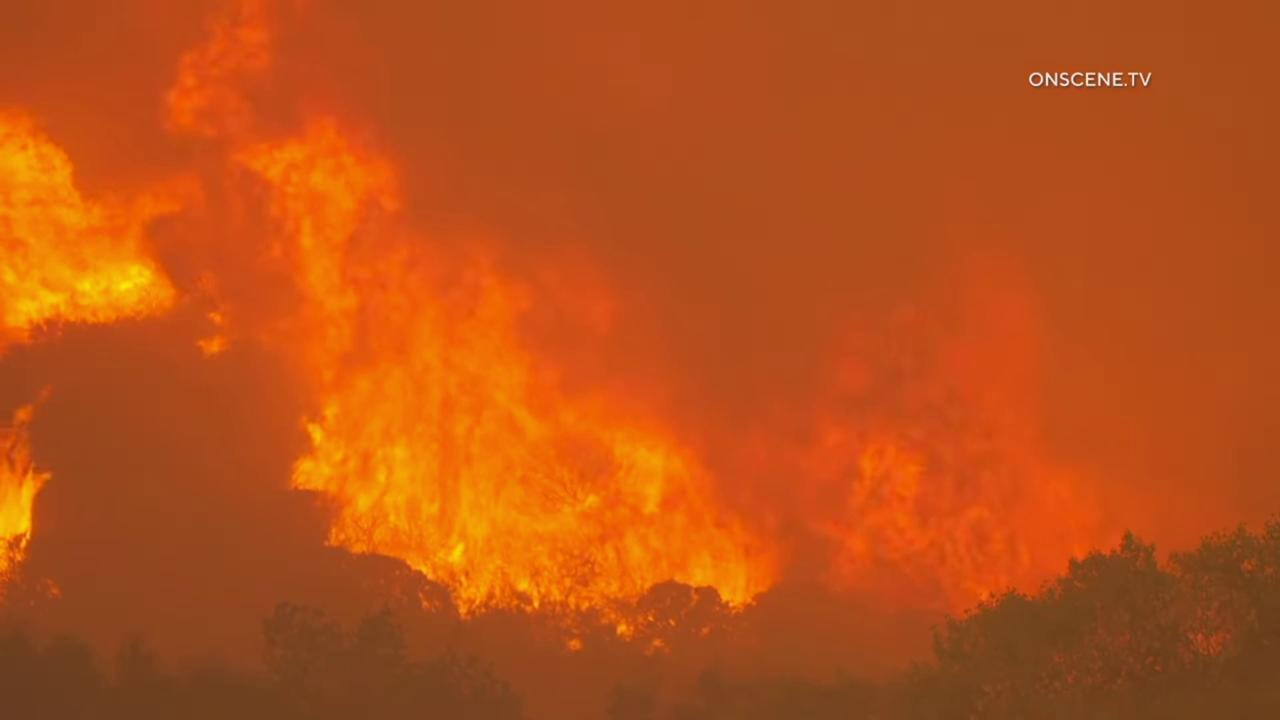fire: (0, 0, 1122, 656), (0, 379, 64, 609)
smoke: (0, 0, 1280, 720)
